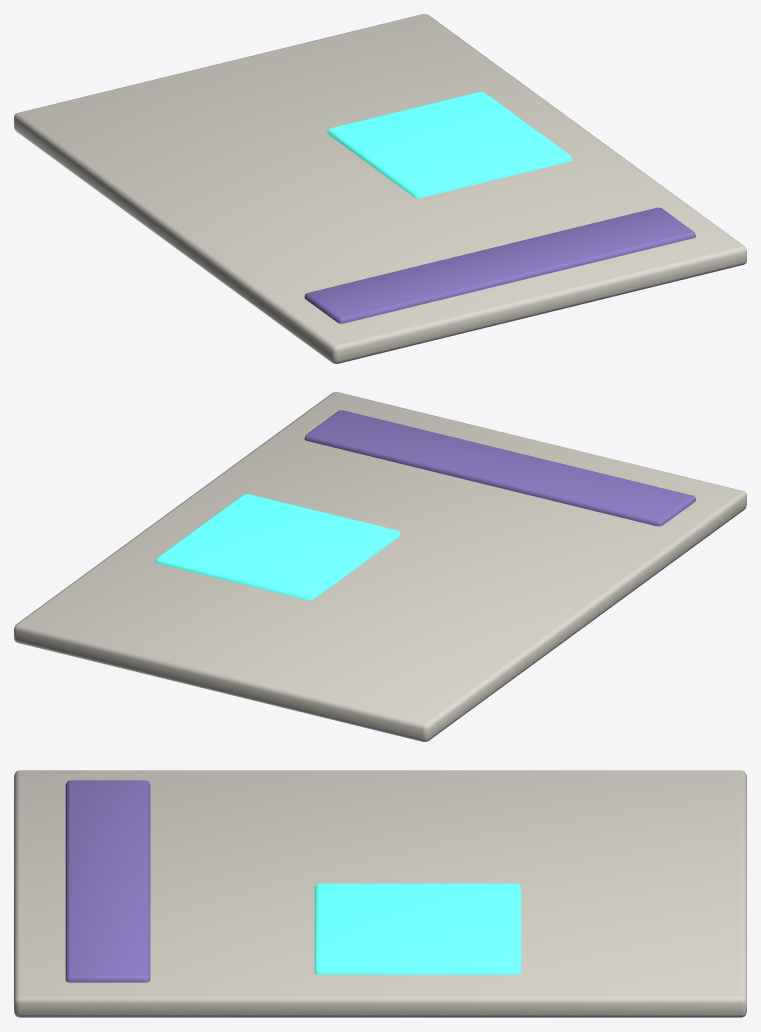
File: Doc_ResearchDocument.fbx
3 views of the same model, one above another, from view 1: azimuth 30°, elevation 25°; view 2: azimuth 150°, elevation 25°; view 3: azimuth 270°, elevation 25° (orthographic). The views are drawn at different scales.
Parts seen in each view (by area): view 1: Research_Sheet, Research_ChartBox, Research_Header; view 2: Research_Sheet, Research_ChartBox, Research_Header; view 3: Research_Sheet, Research_ChartBox, Research_Header.
Part boxes in pixels (box(x1,y1,x2,y2)): Research_Sheet: box(14, 14, 746, 363); Research_ChartBox: box(327, 91, 572, 198); Research_Header: box(304, 207, 695, 323); Research_Sheet: box(14, 392, 746, 741); Research_ChartBox: box(155, 494, 400, 600); Research_Header: box(304, 410, 695, 526); Research_Sheet: box(14, 770, 746, 1017); Research_ChartBox: box(314, 883, 521, 974); Research_Header: box(65, 780, 150, 982).
Size of the model in its own units: 5.8 by 0.32 by 7.8.
